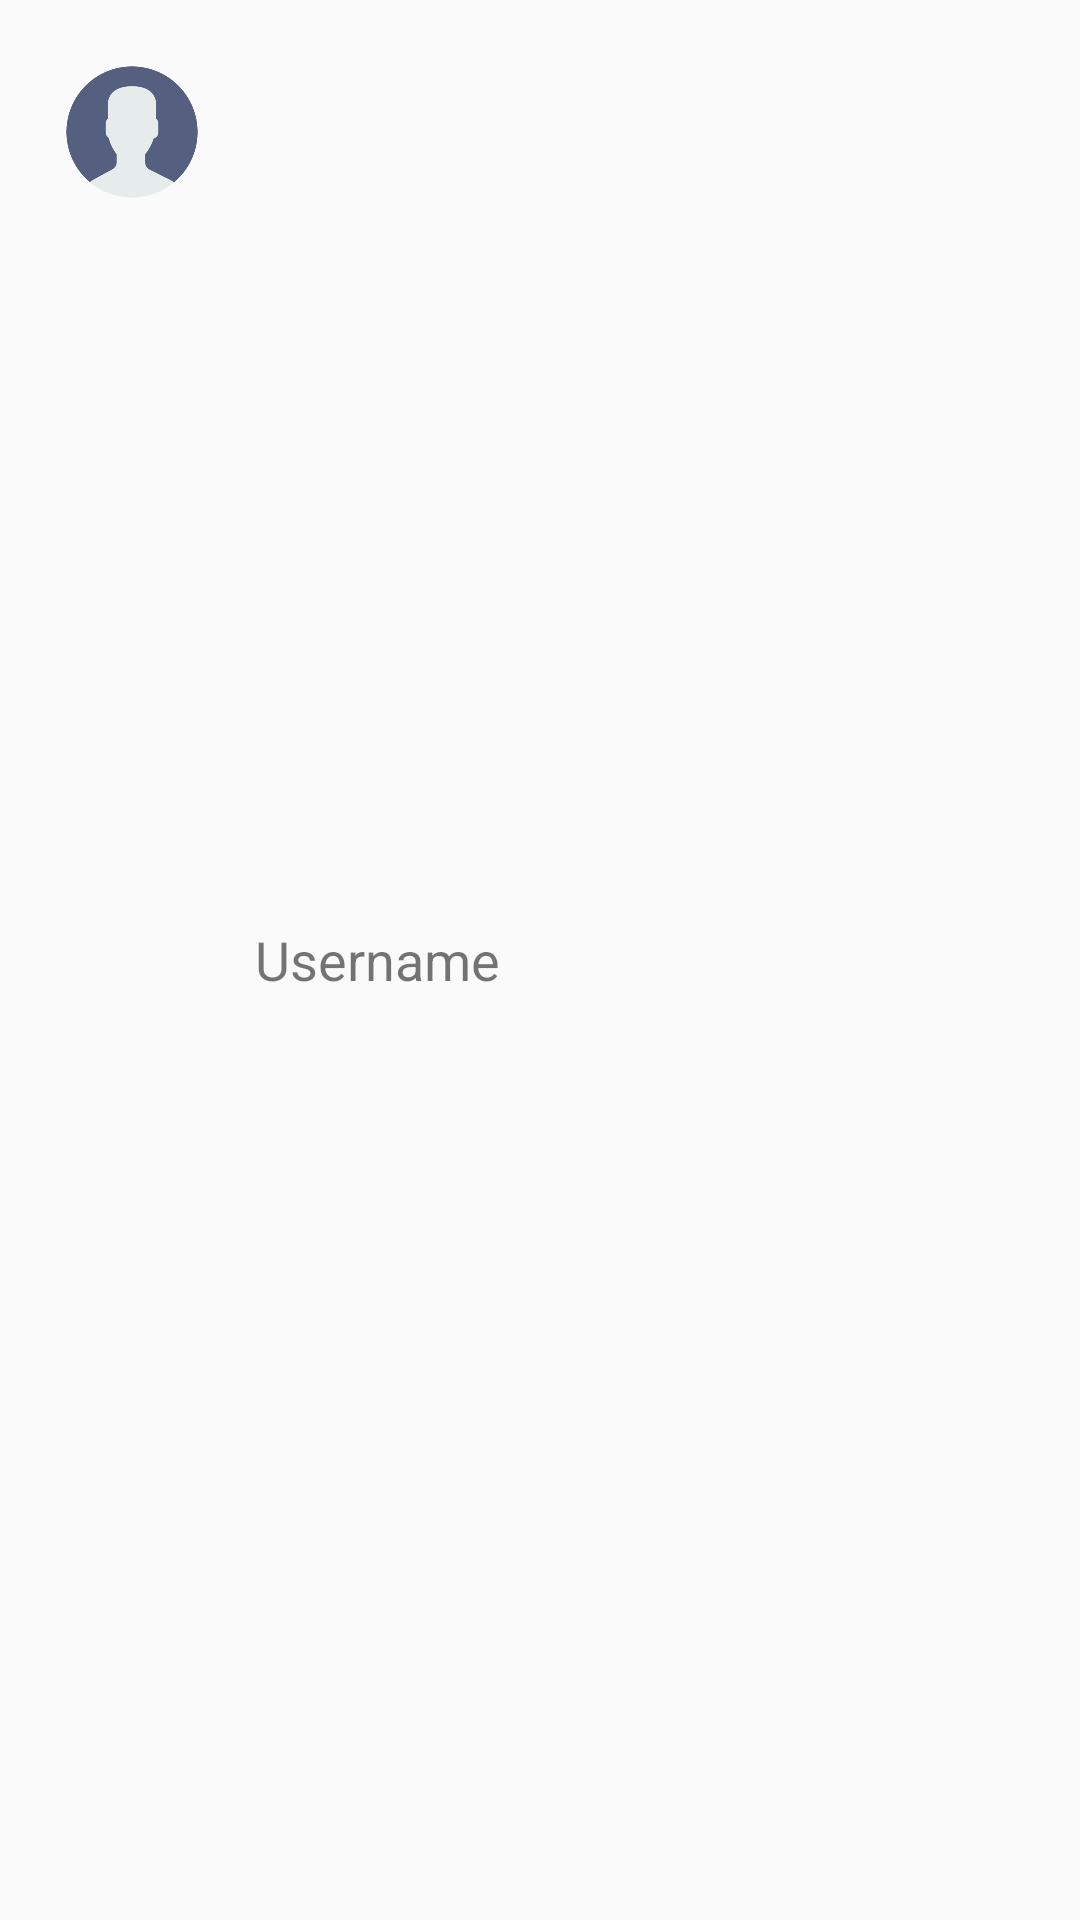

Where to tap for icons on this 1080*1920 app screen, as point (x, y):
user: point (132, 124)
